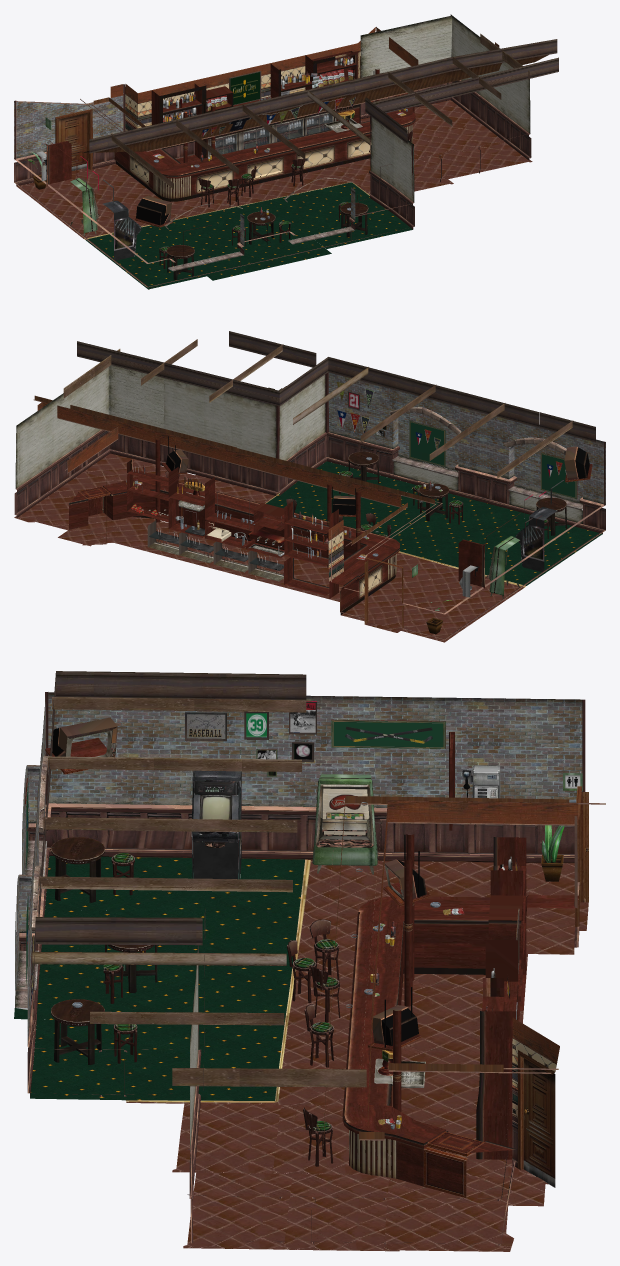
File: old_bar_COMPRESSED.glb
3 renders of one model, top to bottom at view 1: azimuth 30°, elevation 25°; view 2: azimuth 150°, elevation 25°; view 3: azimuth 270°, elevation 25°, orthographic. The views are drawn at different scales.
Visible parts, largest first — view 1: FrontSide_13, FrontSide_23, FrontSide_28, FrontSide_24, FrontSide_0, FrontSide_9, FrontSide_16, FrontSide_10, FrontSide_35, FrontSide_14, FrontSide_2, FrontSide_15 (+12 smaller); view 2: FrontSide_0, FrontSide_13, FrontSide_24, FrontSide_9, FrontSide_28, FrontSide_23, FrontSide_66, FrontSide_16, FrontSide_14, FrontSide_35, FrontSide_64, FrontSide_10 (+12 smaller); view 3: FrontSide_13, FrontSide_23, FrontSide_28, FrontSide_24, FrontSide_9, FrontSide_66, FrontSide_14, FrontSide_35, FrontSide_16, FrontSide_30, FrontSide_15, FrontSide_11 (+15 smaller).
Boxes of the visible parts, <box> form: FrontSide_13: <box>17,100,532,238</box>; FrontSide_23: <box>85,182,412,289</box>; FrontSide_28: <box>89,33,558,198</box>; FrontSide_24: <box>46,50,415,265</box>; FrontSide_0: <box>360,14,530,202</box>; FrontSide_9: <box>14,48,531,289</box>; FrontSide_16: <box>110,27,499,130</box>; FrontSide_10: <box>81,55,548,152</box>; FrontSide_35: <box>84,69,374,279</box>; FrontSide_14: <box>14,106,355,245</box>; FrontSide_2: <box>208,112,336,156</box>; FrontSide_15: <box>55,56,360,170</box>; FrontSide_0: <box>15,365,582,523</box>; FrontSide_13: <box>14,453,524,642</box>; FrontSide_24: <box>69,425,577,614</box>; FrontSide_9: <box>14,372,605,639</box>; FrontSide_28: <box>63,331,595,579</box>; FrontSide_23: <box>266,461,602,585</box>; FrontSide_66: <box>328,372,605,473</box>; FrontSide_16: <box>37,401,401,581</box>; FrontSide_14: <box>328,401,605,504</box>; FrontSide_35: <box>168,407,582,587</box>; FrontSide_64: <box>375,420,576,499</box>; FrontSide_10: <box>34,395,434,544</box>; FrontSide_13: <box>126,860,588,1251</box>; FrontSide_23: <box>14,856,304,1100</box>; FrontSide_28: <box>32,671,519,1178</box>; FrontSide_24: <box>24,719,578,1187</box>; FrontSide_9: <box>15,692,605,1245</box>; FrontSide_66: <box>15,692,582,990</box>; FrontSide_14: <box>15,749,582,1044</box>; FrontSide_35: <box>15,755,419,1102</box>; FrontSide_16: <box>368,800,578,1127</box>; FrontSide_30: <box>103,853,340,1166</box>; FrontSide_15: <box>393,786,588,1187</box>; FrontSide_11: <box>45,738,484,1197</box>.
Size of what is drawn, in the model's own units: 19.14 by 3.9 by 10.89.
Materials: 67 (66 with a texture image).
